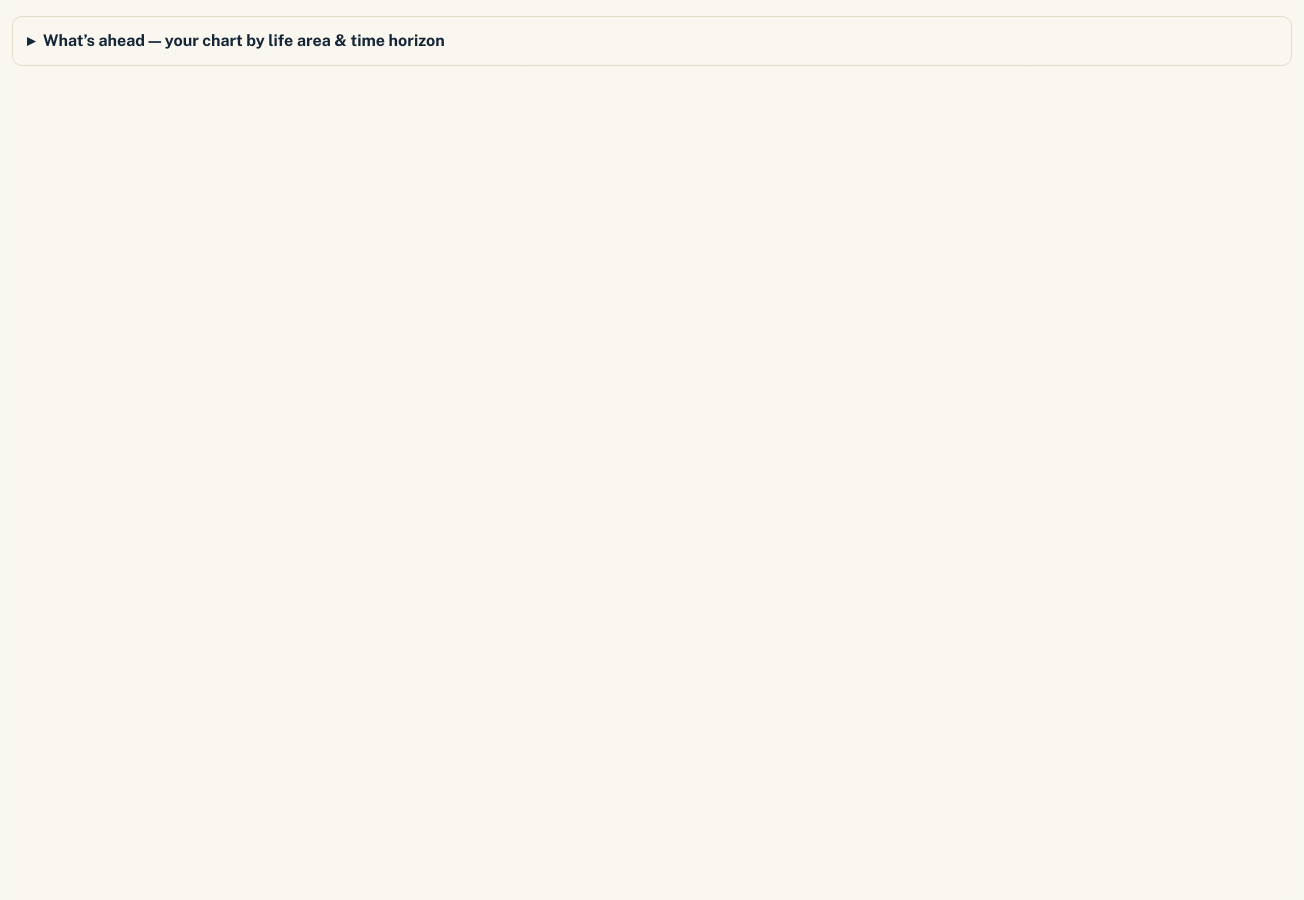
Test case: WhatsAhead (Item G) › time-horizon view renders the four horizons and a lifetime list
Click the button with test id "whats-ahead-toggle" at (244, 40), box [12,16,1292,66]
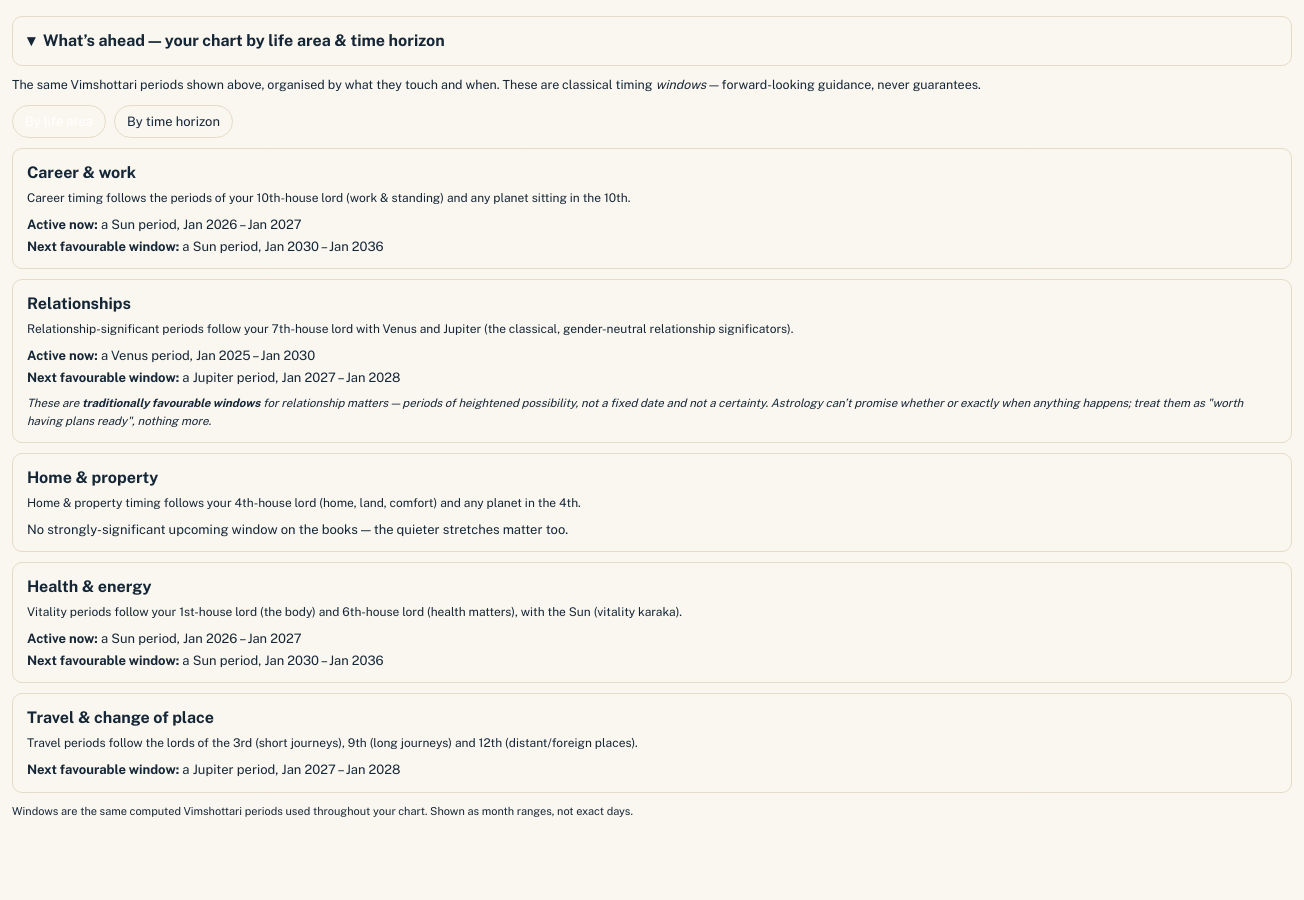
Click the tab with test id "whatsahead-tab-horizon" at (174, 122), box [114,105,233,138]
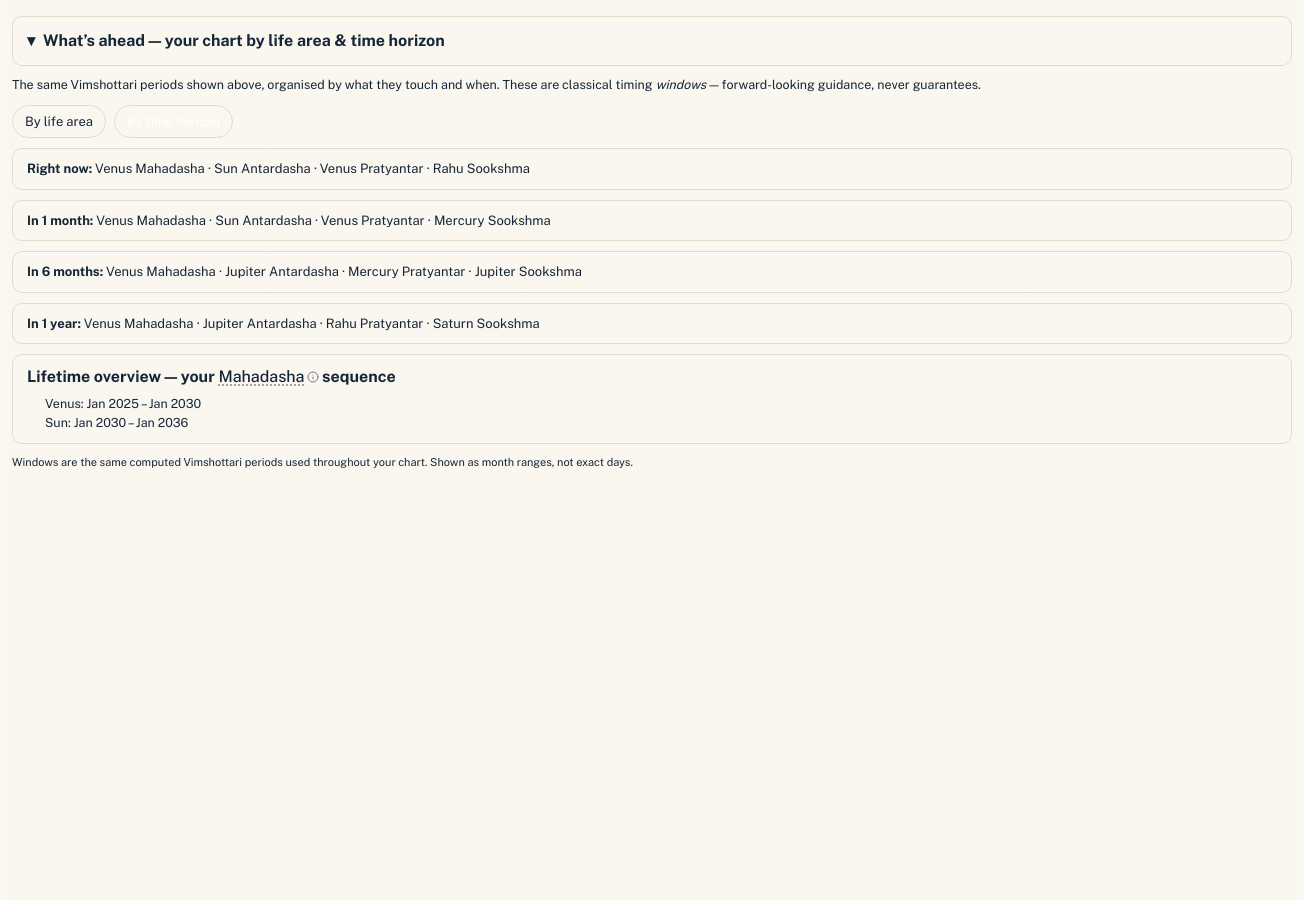
Expected: the element with test id "whatsahead-horizon-right-now" is shown, [12,148,1292,190]
Expected: the element with test id "whatsahead-horizon-in-1-year" is shown, [12,303,1292,344]
